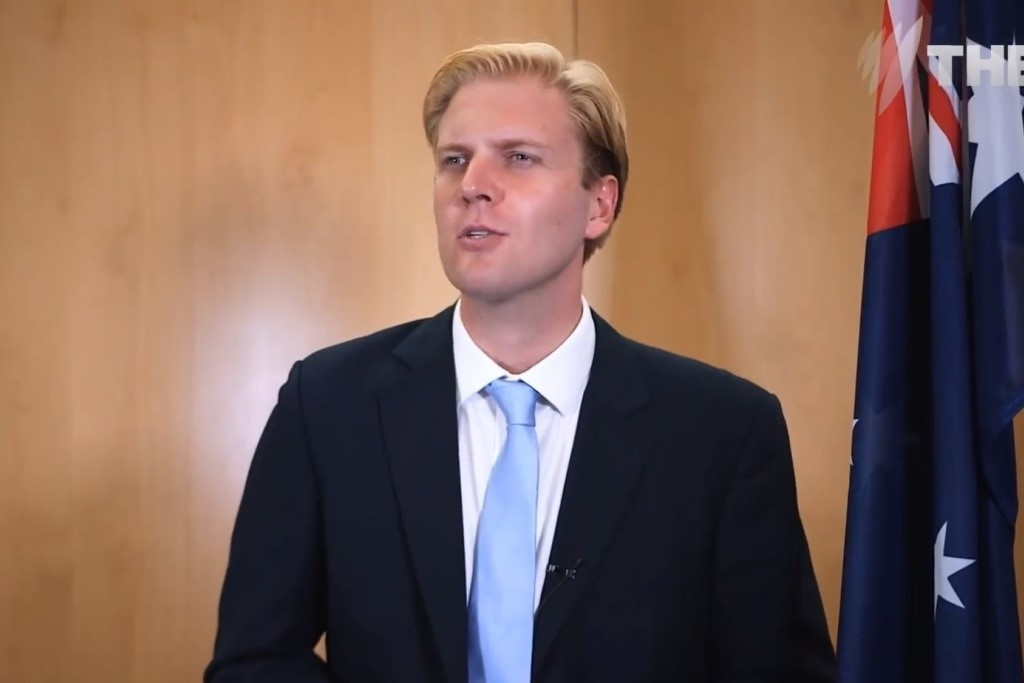face_no_mask: (421, 43, 625, 299)
